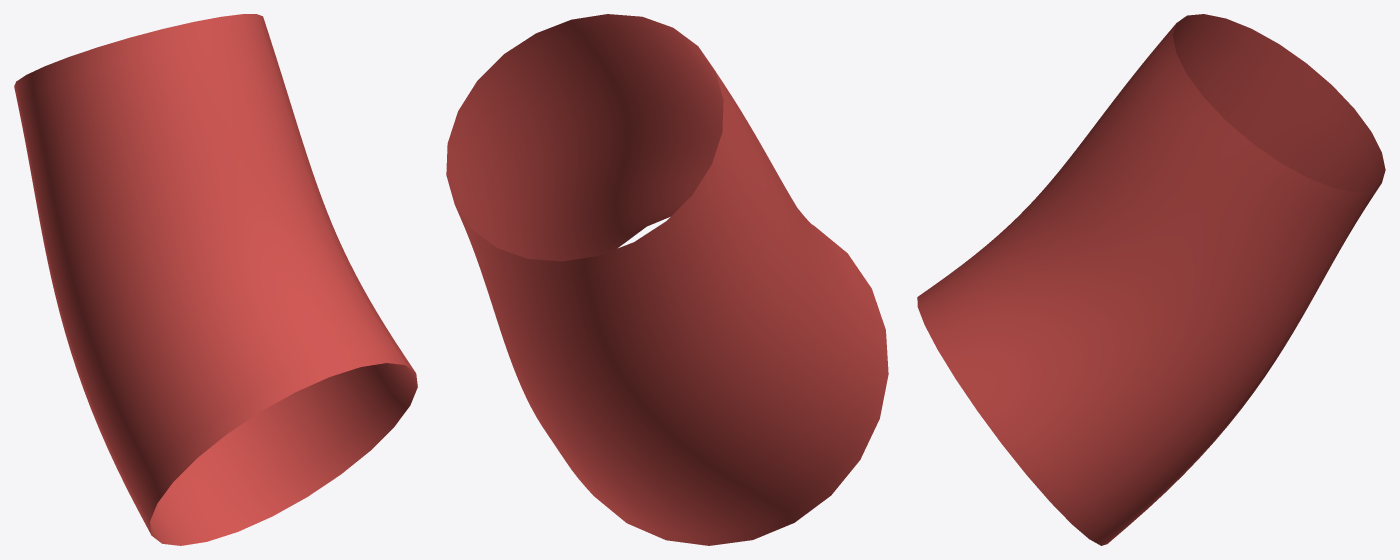
3 views of the same model, side by side, from view 1: azimuth 30°, elevation 25°; view 2: azimuth 150°, elevation 25°; view 3: azimuth 270°, elevation 25° (orthographic). The views are drawn at different scales.
Visible parts, largest first — view 1: 右侧髂内动脉后干; view 2: 右侧髂内动脉后干; view 3: 右侧髂内动脉后干.
Part boxes in pixels (bbox=[...]): 右侧髂内动脉后干: bbox=[14, 14, 417, 545]; 右侧髂内动脉后干: bbox=[446, 14, 888, 545]; 右侧髂内动脉后干: bbox=[917, 14, 1385, 545].
Bounding box in the file's own units: 0.00859 × 0.0147 × 0.0126.
